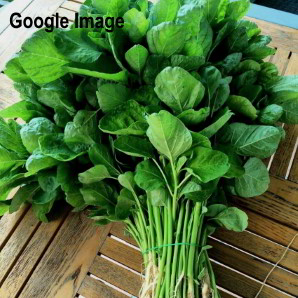Bayam: (37, 49, 263, 288)
